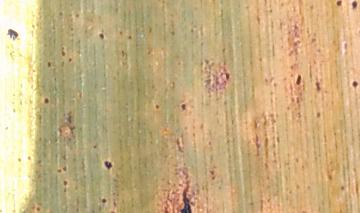tarspot: (181, 183, 192, 213), (7, 27, 19, 41), (104, 158, 113, 169), (295, 73, 302, 86), (351, 80, 360, 88), (41, 96, 50, 104), (315, 81, 322, 91), (225, 70, 231, 81), (97, 31, 105, 39), (46, 59, 53, 68), (153, 102, 161, 109), (336, 1, 344, 8), (100, 196, 107, 204), (62, 164, 69, 172), (352, 1, 357, 11), (73, 12, 80, 19), (181, 103, 187, 111), (315, 110, 321, 118), (62, 178, 68, 186), (61, 48, 66, 57), (56, 167, 62, 174), (210, 175, 217, 181), (209, 169, 215, 176), (16, 157, 23, 163), (26, 154, 32, 161), (57, 10, 63, 17), (340, 185, 346, 191), (68, 56, 73, 63), (91, 144, 98, 149), (328, 174, 333, 181), (127, 34, 133, 39), (37, 206, 41, 211)
